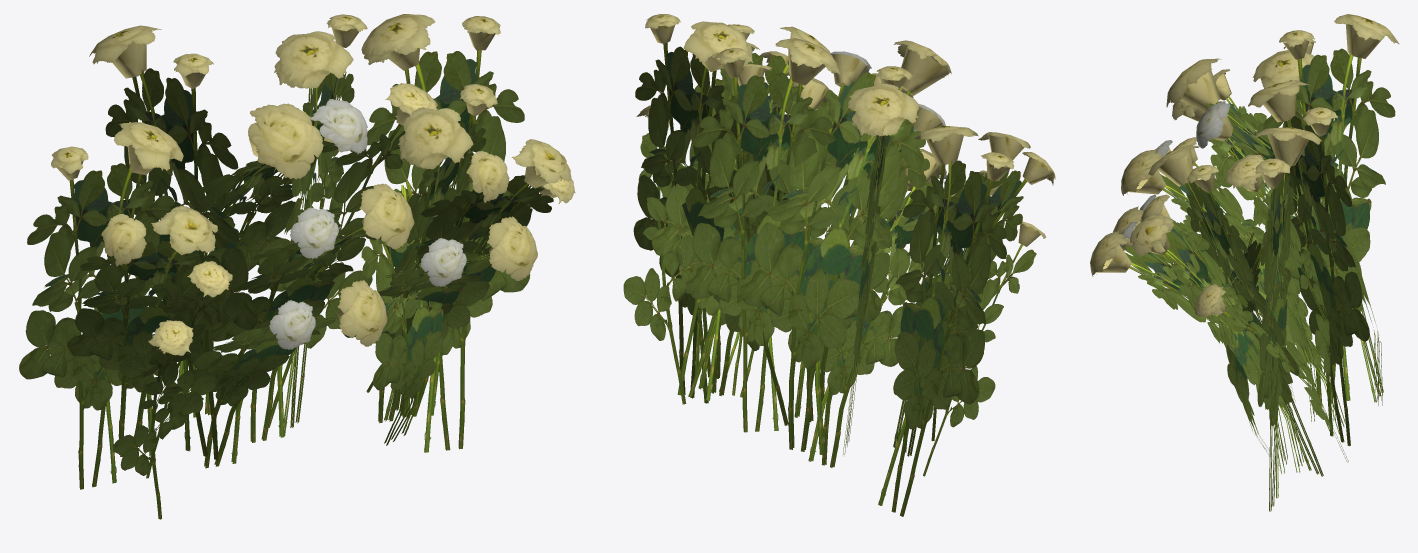
The model's file is NaturePlant04_3.FBX.
3 views of the same model, side by side, from view 1: azimuth 30°, elevation 25°; view 2: azimuth 150°, elevation 25°; view 3: azimuth 270°, elevation 25° (orthographic). The views are drawn at different scales.
Parts seen in each view (by area): view 1: NaturePlant04_3; view 2: NaturePlant04_3; view 3: NaturePlant04_3.
Part boxes in pixels (x1,y1,x2,y2): NaturePlant04_3: (19,14,575,519); NaturePlant04_3: (623,14,1055,516); NaturePlant04_3: (1090,14,1399,511).
Size of what is drawn, in the model's own units: 1.59 by 1.37 by 0.9826.
